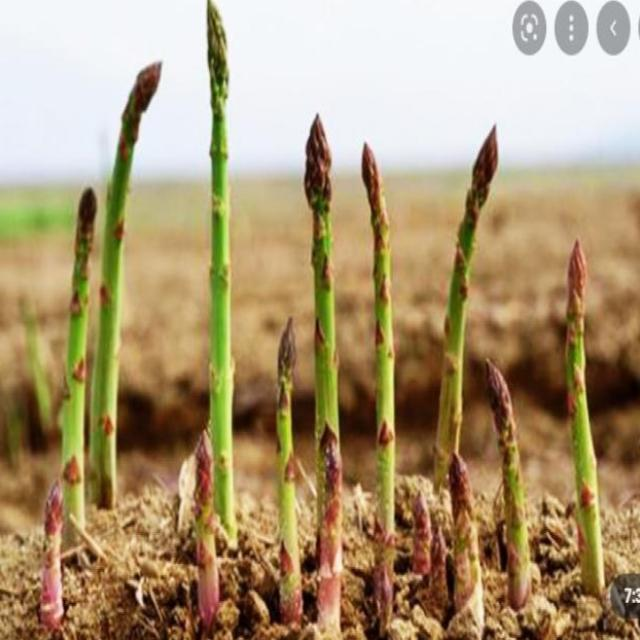aspargus: (437, 127, 498, 459), (207, 0, 236, 540), (362, 144, 395, 618), (567, 242, 609, 602), (63, 184, 102, 528), (482, 352, 535, 605), (271, 305, 305, 618)
